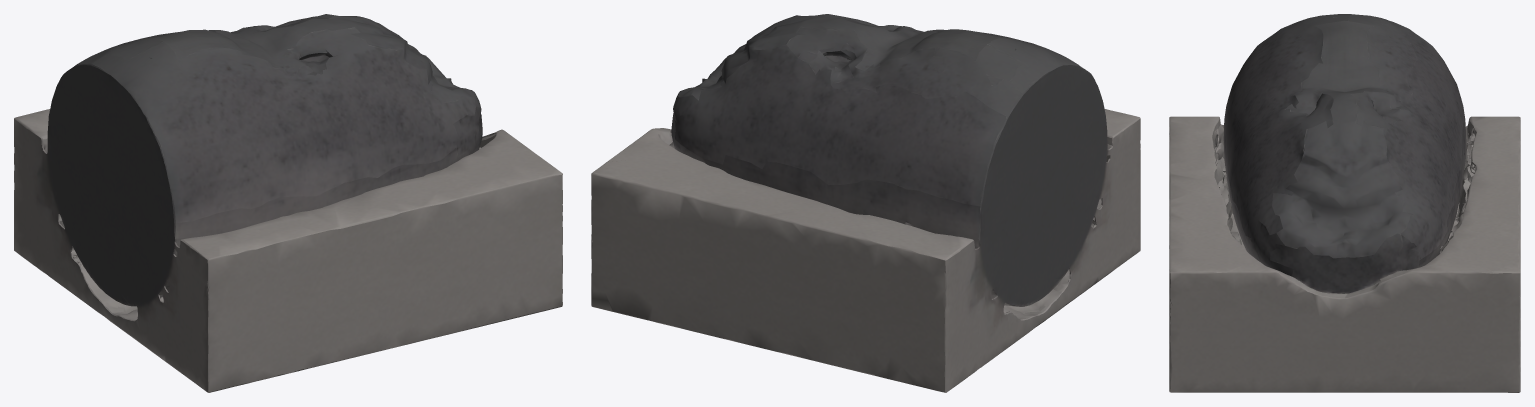
The picture shows the model from 3 angles, left to right: view 1: azimuth 30°, elevation 25°; view 2: azimuth 150°, elevation 25°; view 3: azimuth 270°, elevation 25°; orthographic projection. The views are drawn at different scales.
Parts seen in each view (by area): view 1: world; view 2: world; view 3: world.
Boxes of the visible parts, left/top/right/bottom form: world: left=14, top=14, right=562, bottom=392; world: left=591, top=14, right=1140, bottom=392; world: left=1169, top=14, right=1520, bottom=392.
Size of the model in its own units: 1.2 by 0.8597 by 1.14.
Materials: 1 (1 with a texture image).
